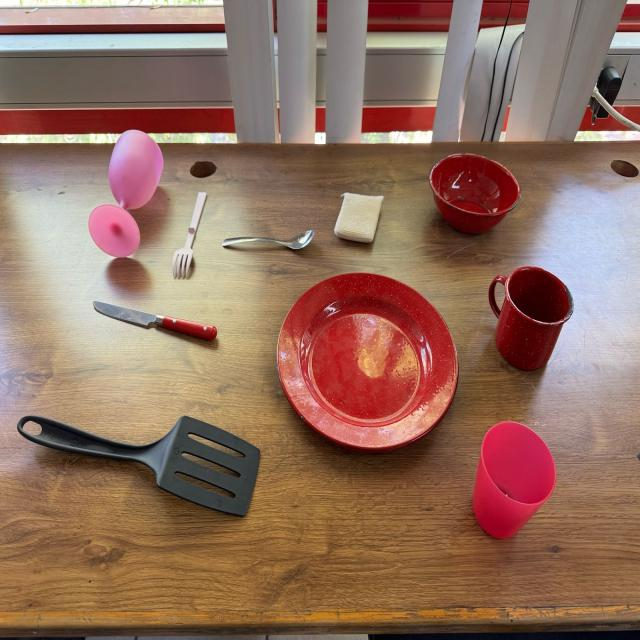cup: (488, 265, 575, 370)
fork: (171, 190, 207, 280)
glass: (472, 421, 557, 539)
knife: (90, 298, 219, 342)
plate: (276, 271, 459, 451)
spatula: (18, 408, 264, 517)
sponge: (335, 192, 383, 244)
spoon: (222, 230, 313, 252)
tazon: (428, 151, 522, 234)
wineglass: (86, 131, 165, 260)
